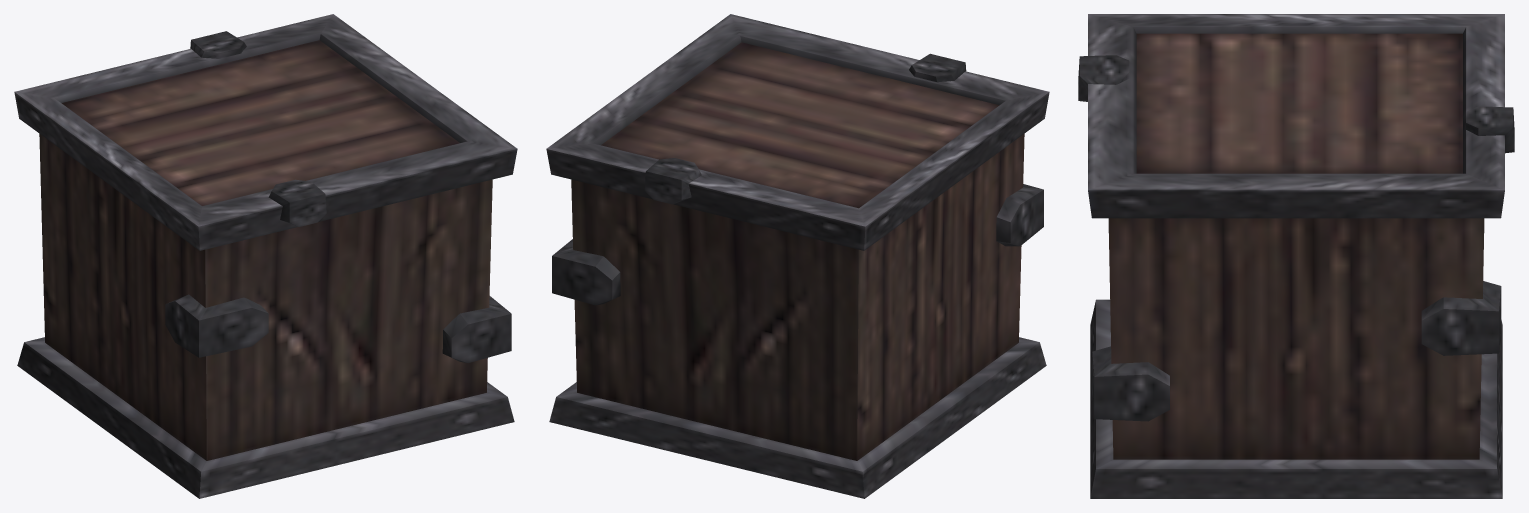
Rendered from SM_zhucheng_muxiang01.FBX.
3 renders of one model, left to right at view 1: azimuth 30°, elevation 25°; view 2: azimuth 150°, elevation 25°; view 3: azimuth 270°, elevation 25°, orthographic. The views are drawn at different scales.
Visible parts, largest first — view 1: SM_zhucheng_muxiang01; view 2: SM_zhucheng_muxiang01; view 3: SM_zhucheng_muxiang01.
Boxes of the visible parts, bbox=[...] form: SM_zhucheng_muxiang01: bbox=[14, 14, 517, 498]; SM_zhucheng_muxiang01: bbox=[546, 14, 1049, 498]; SM_zhucheng_muxiang01: bbox=[1078, 14, 1514, 498].
Size of the model in its own units: 38.11 by 31.83 by 39.85.
